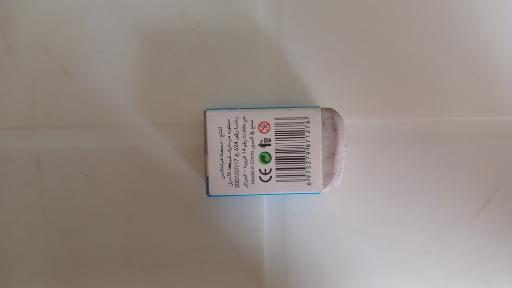Eraser: (203, 105, 344, 196)
